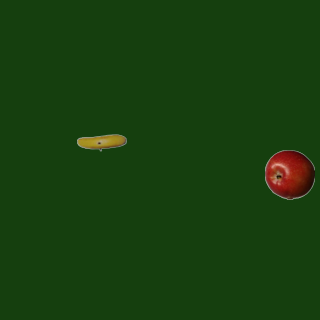Apple Braeburn: (264, 149, 314, 199)
Banana: (76, 117, 126, 167)
